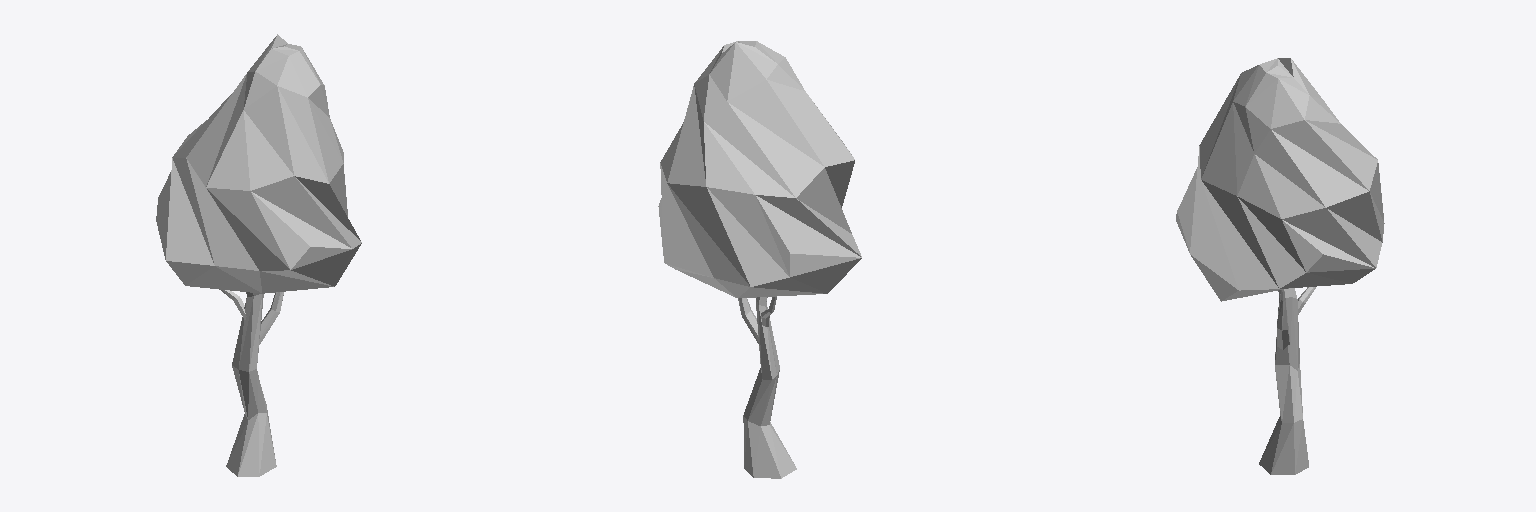
File: Tree22.obj
The picture shows the model from 3 angles: view 1: azimuth 30°, elevation 25°; view 2: azimuth 150°, elevation 25°; view 3: azimuth 270°, elevation 25°; orthographic projection.
Parts seen in each view (by area): view 1: Tree_Type_2_2; view 2: Tree_Type_2_2; view 3: Tree_Type_2_2.
Part boxes in pixels (bbox=[...]): Tree_Type_2_2: bbox=[156, 34, 361, 476]; Tree_Type_2_2: bbox=[658, 41, 861, 478]; Tree_Type_2_2: bbox=[1176, 58, 1384, 474].
Bounding box in the file's own units: 0.1859 × 0.4065 × 0.1823.